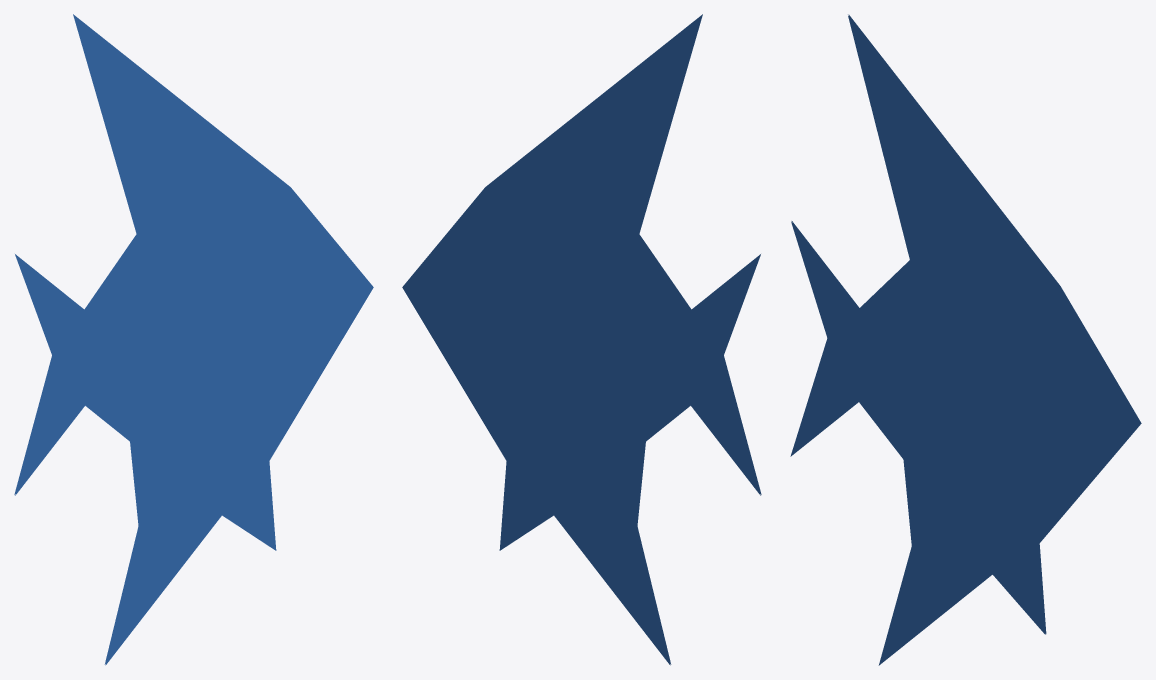
The model's file is Fish.obj.
3 renders of one model, left to right at view 1: azimuth 30°, elevation 25°; view 2: azimuth 150°, elevation 25°; view 3: azimuth 330°, elevation 25°, orthographic. The views are drawn at different scales.
Visible parts, largest first — view 1: Plane, Plane.001; view 2: Plane.001, Plane; view 3: Plane, Plane.001.
Part boxes in pixels (box(x1,y1,x2,y2)): Plane: box(15, 15, 373, 665); Plane.001: box(14, 14, 139, 664); Plane.001: box(402, 15, 760, 665); Plane: box(636, 14, 761, 664); Plane: box(790, 15, 1140, 665); Plane.001: box(792, 14, 1141, 633).
Bounding box in the file's own units: 13.91 × 24.41 × 0.0582.
